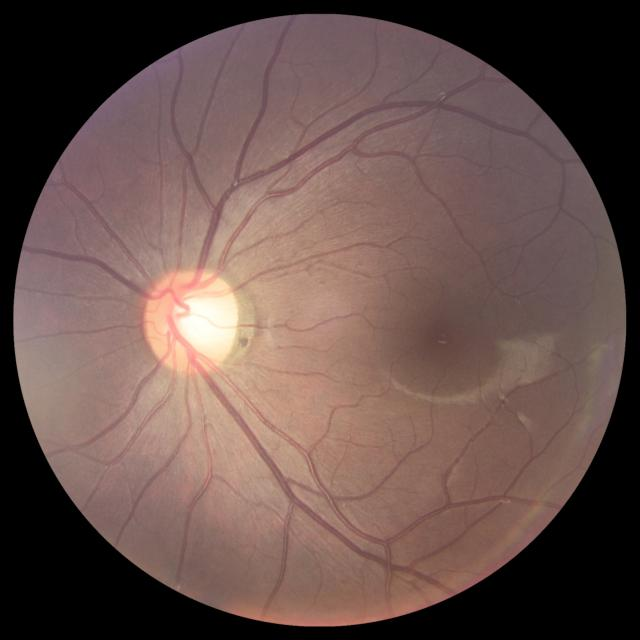OC: (172, 290, 224, 353)
OD: (145, 266, 238, 372)
